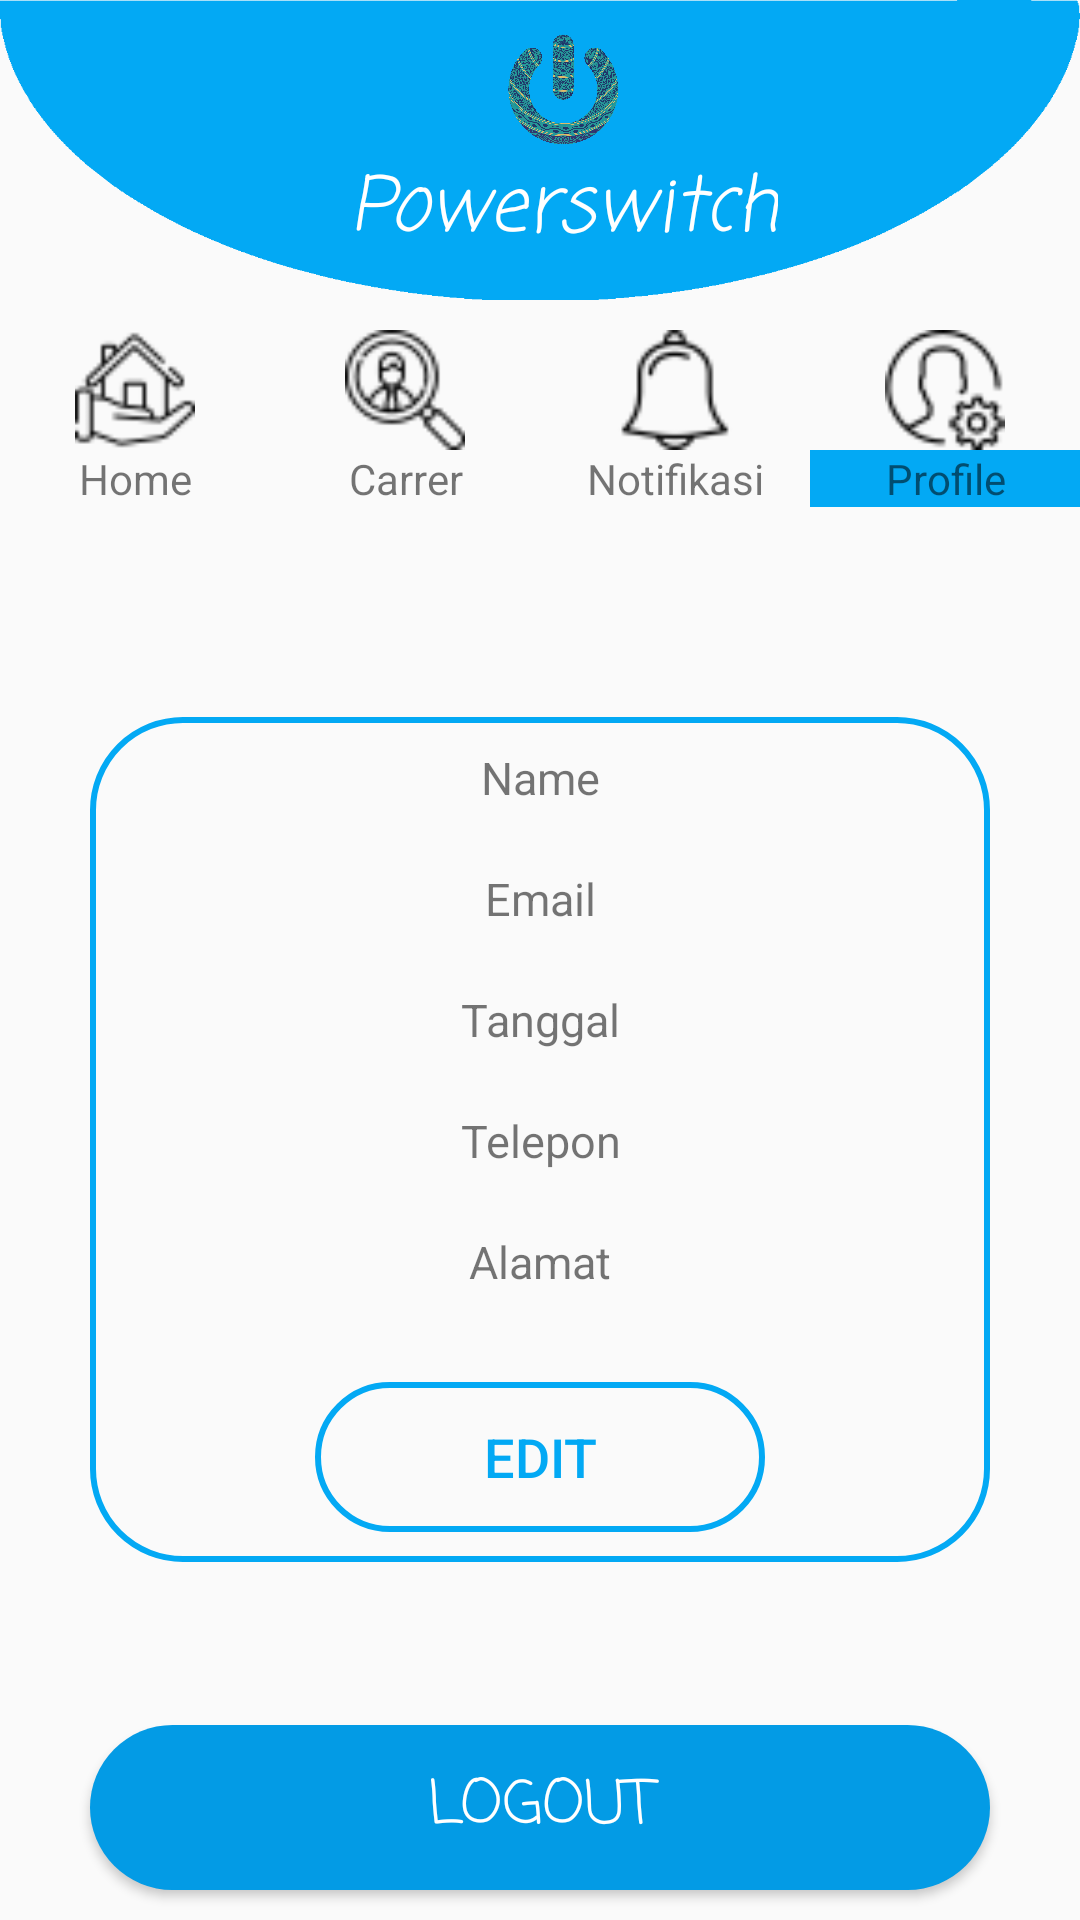

Icon bounding boxes for this 1080px x 1920px phone screenshot, format bbox(x1, y1, x2, y2):
alarm: bbox(621, 330, 729, 450)
search: bbox(345, 330, 465, 450)
user: bbox(885, 330, 1002, 447)
